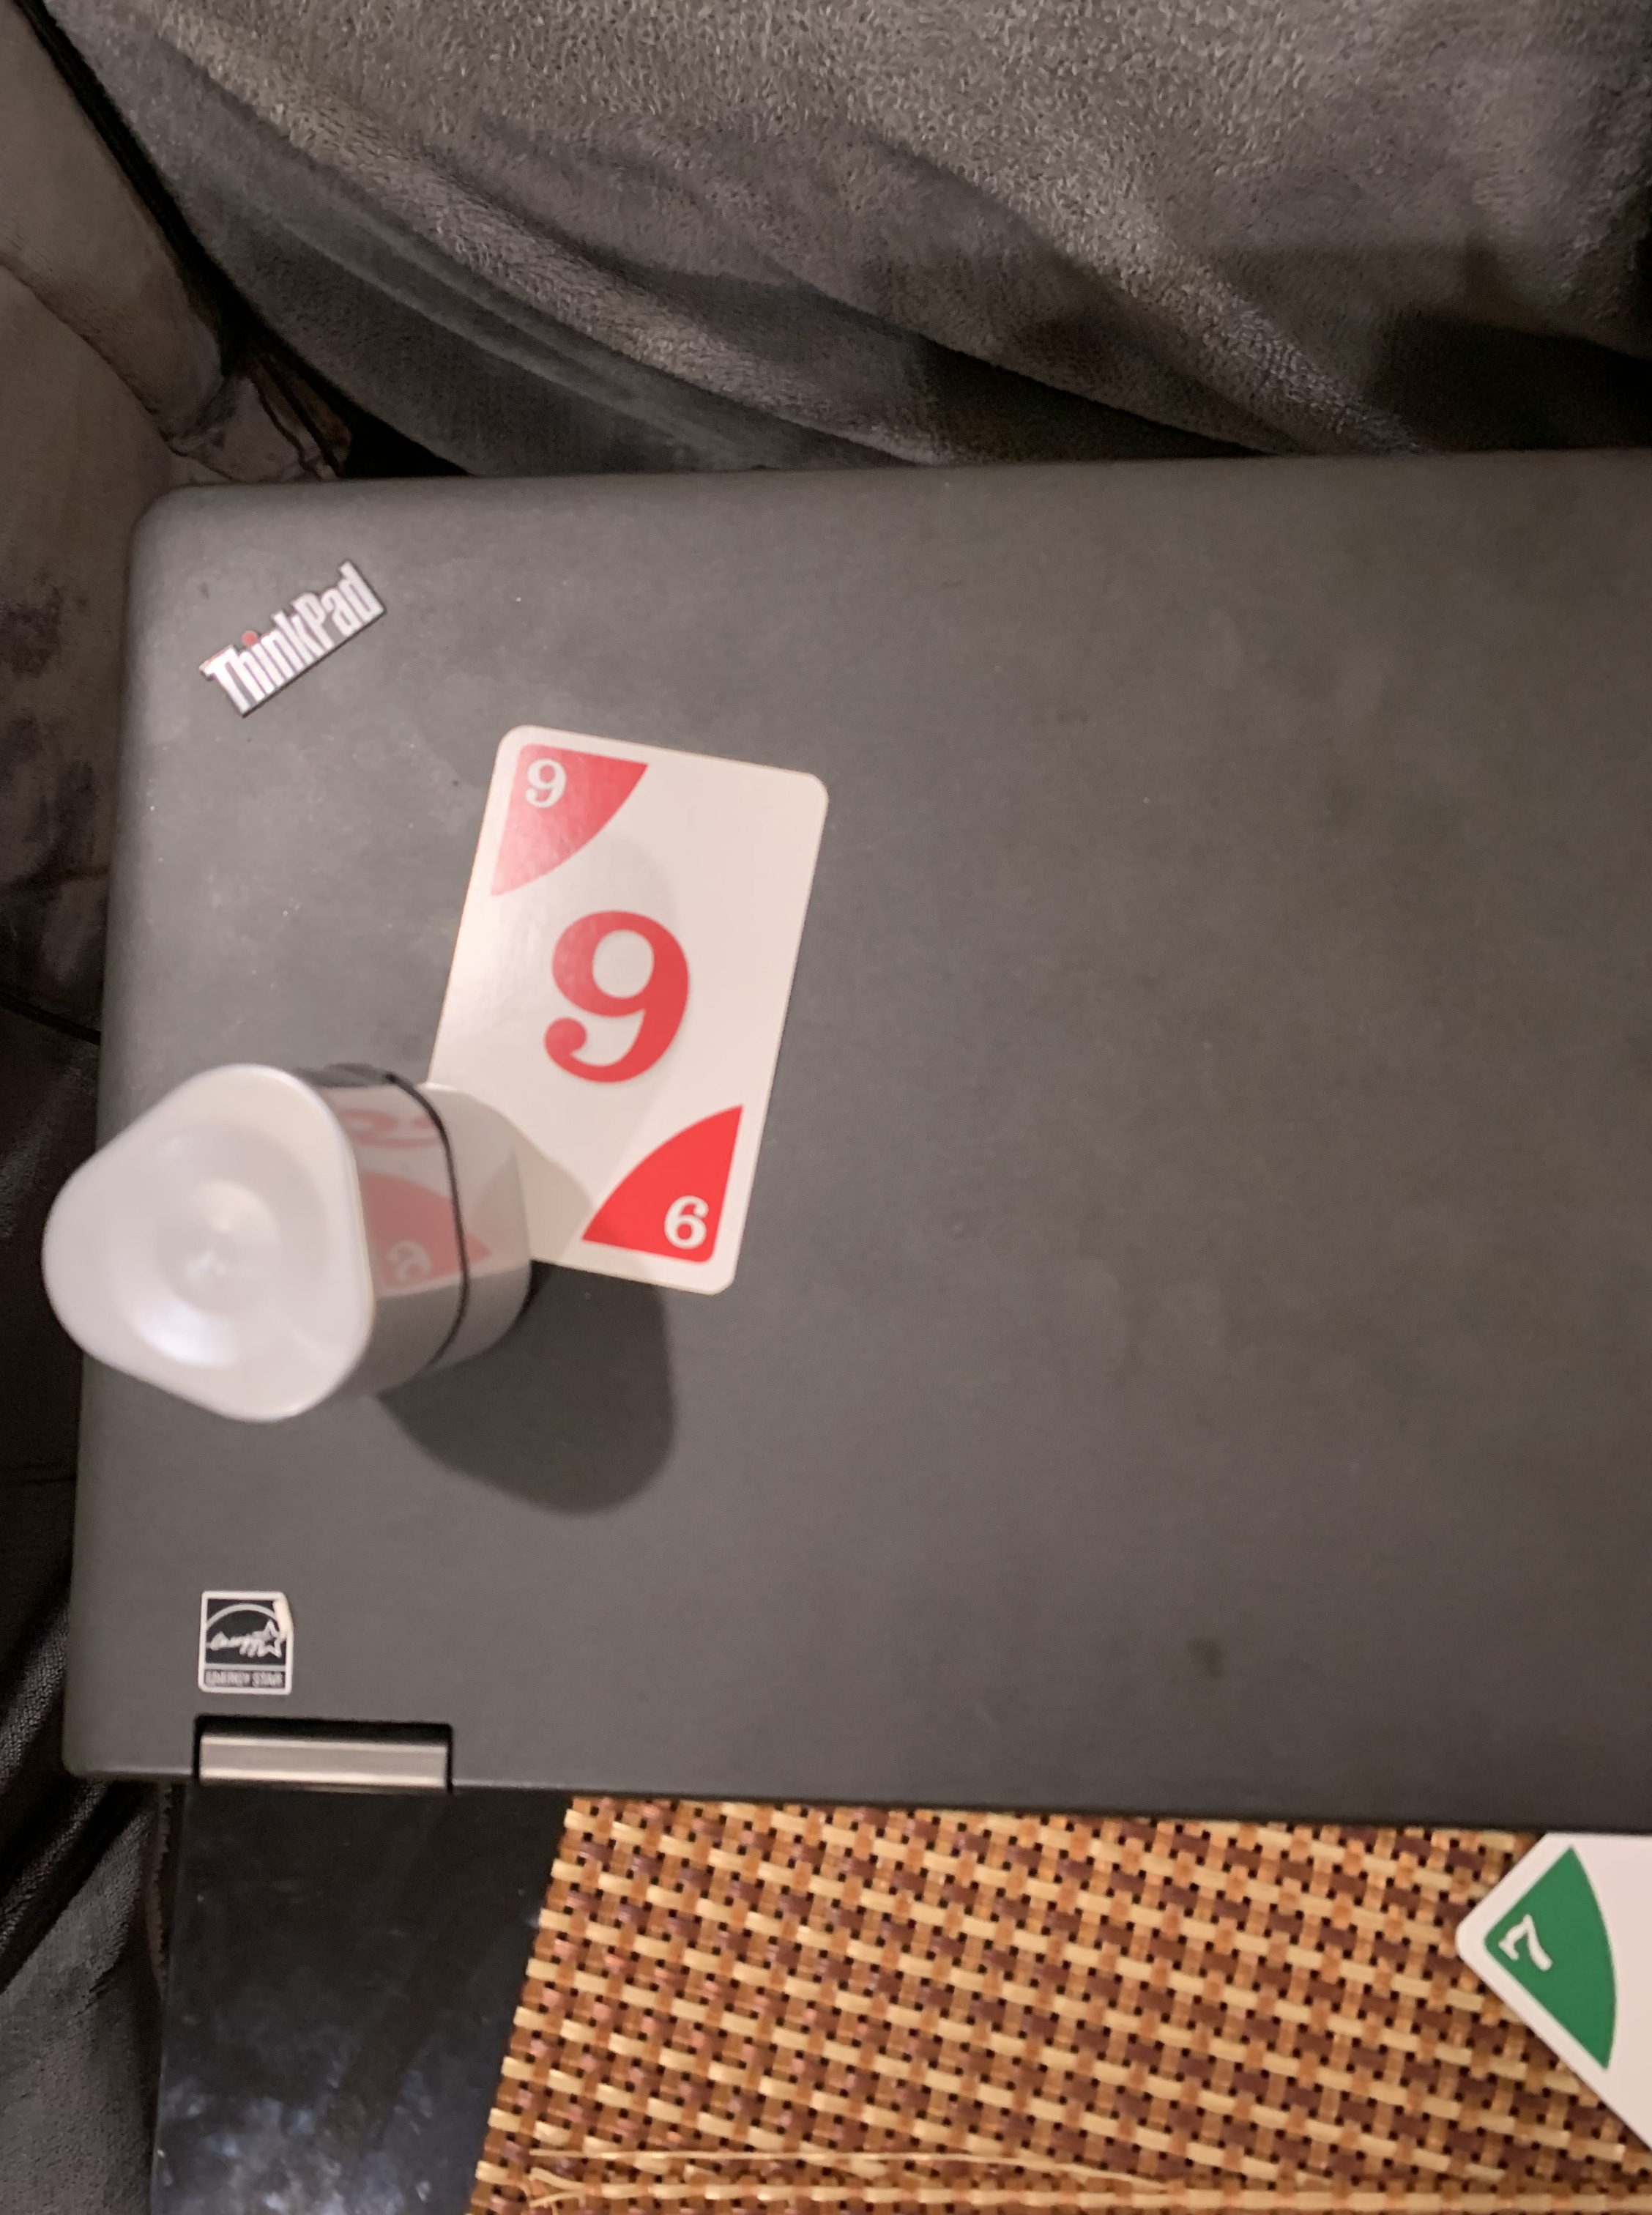nine: (373, 712, 854, 1326)
